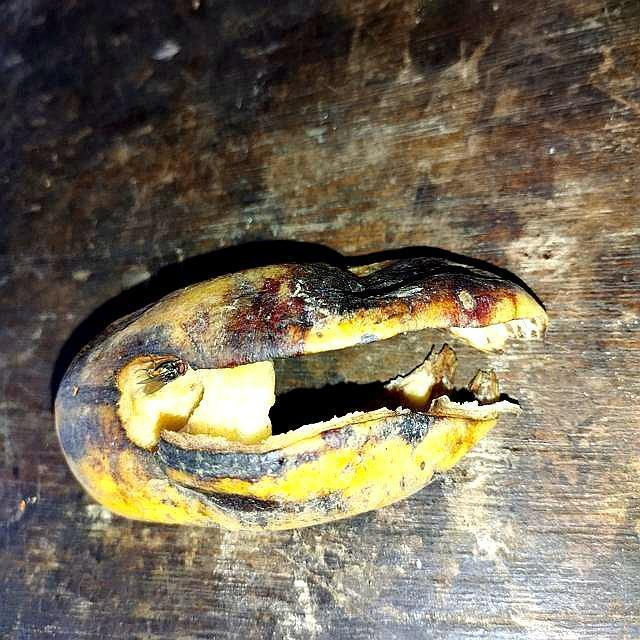Biodegradable: (53, 259, 546, 531)
